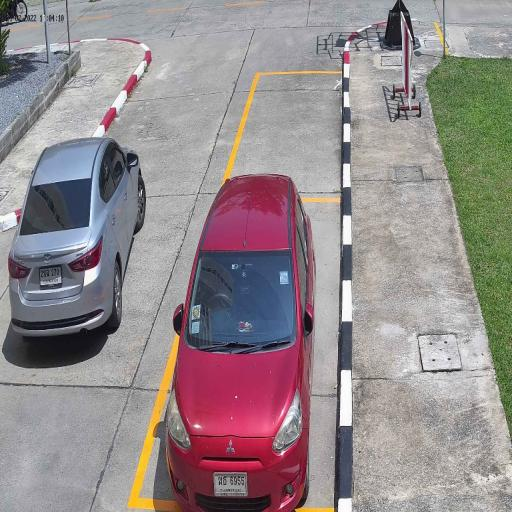car: (164, 172, 317, 512), (7, 135, 148, 341)
